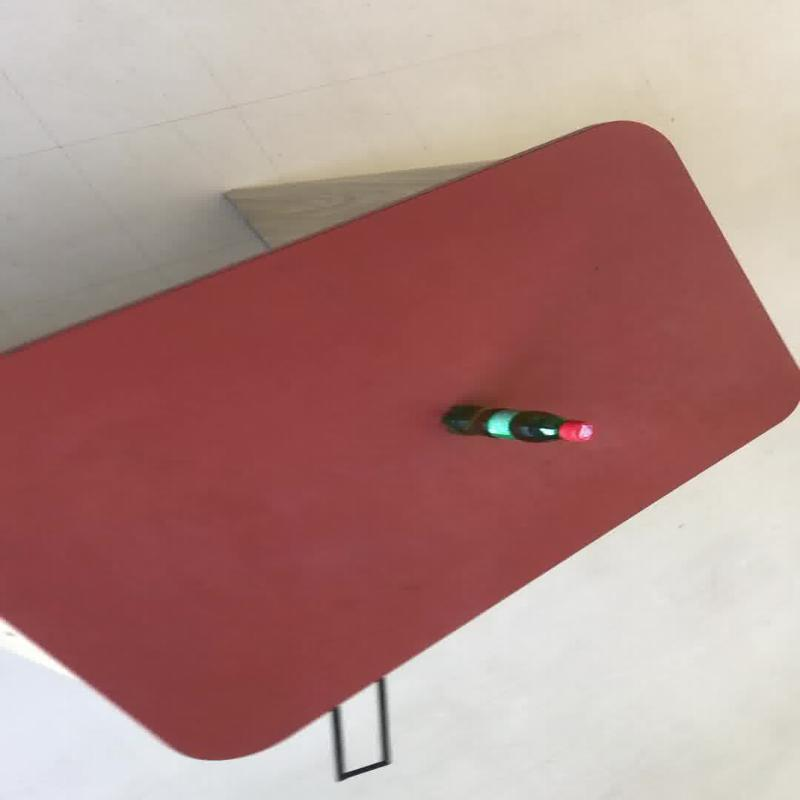guarana: (438, 403, 594, 443)
